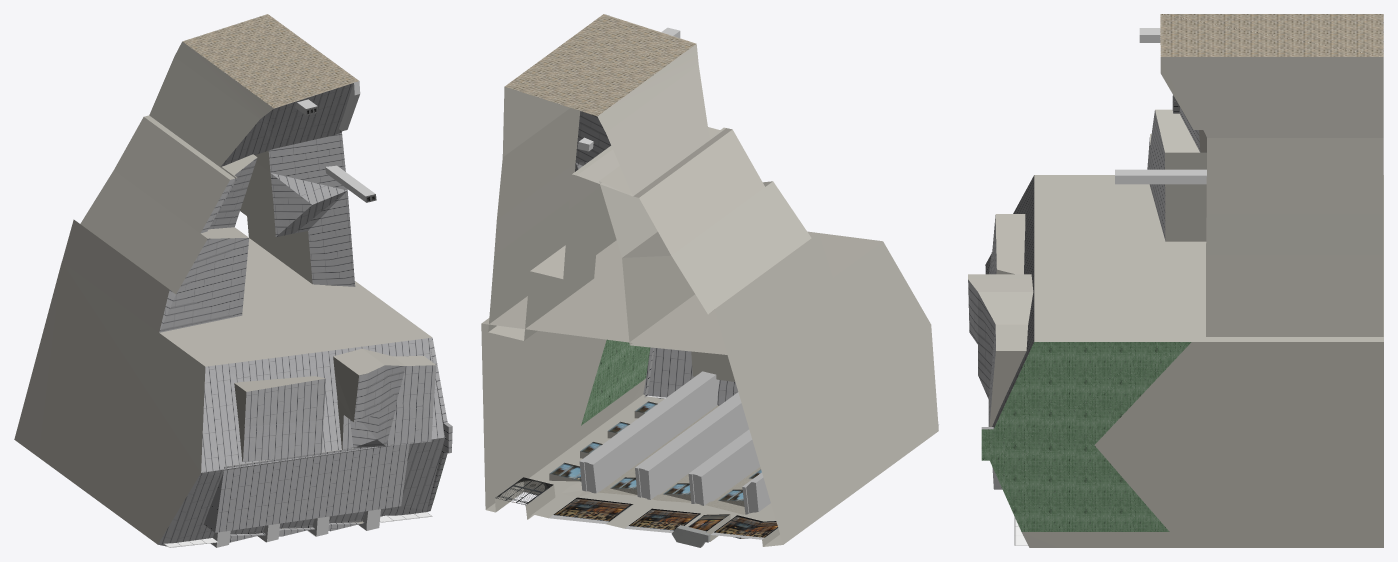
File: Viru_5-origo.obj
The picture shows the model from 3 angles, left to right: view 1: azimuth 30°, elevation 25°; view 2: azimuth 150°, elevation 25°; view 3: azimuth 270°, elevation 25°; orthographic projection. The views are drawn at different scales.
Visible parts, largest first — view 1: Viru_5; view 2: Viru_5; view 3: Viru_5.
Part boxes in pixels (x1,y1,x2,y2): Viru_5: [14, 14, 452, 547]; Viru_5: [481, 14, 938, 547]; Viru_5: [968, 14, 1383, 547].
Size of the model in its own units: 22 by 30 by 23.51.
